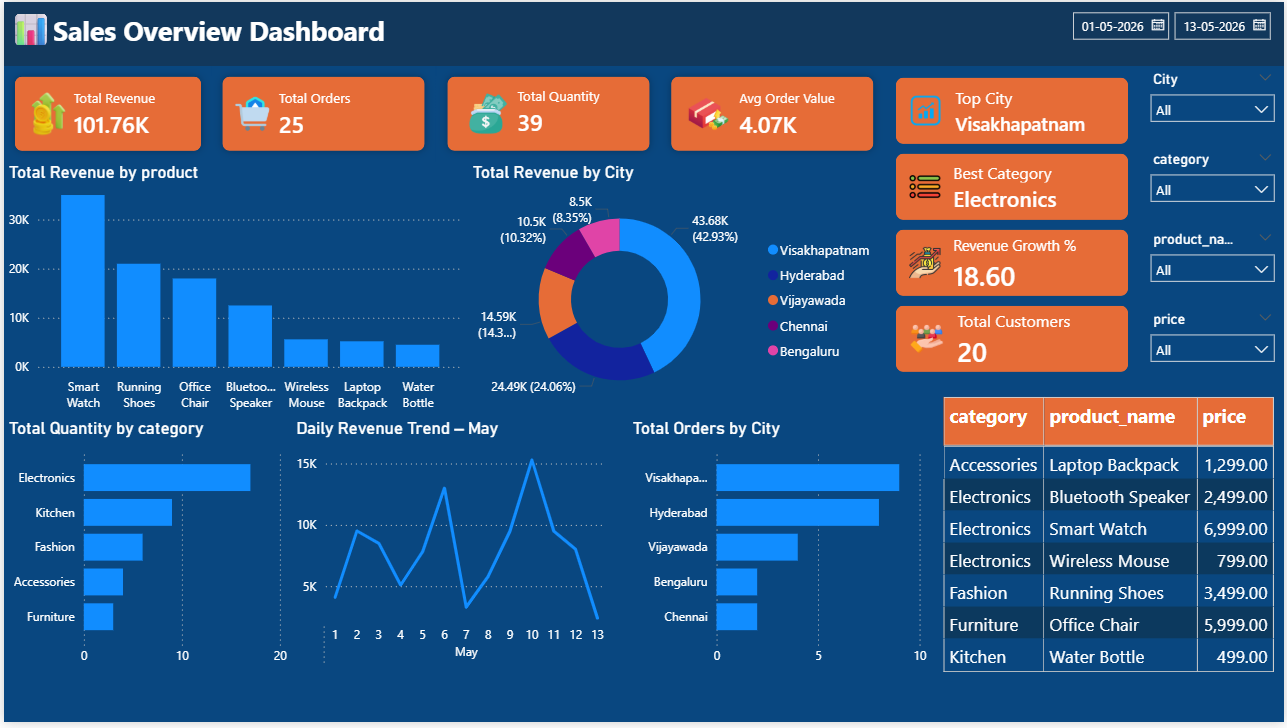

The page's visual inventory and layout, read from the dashboard file:
{"tool":"powerbi","page":{"name":"Page 1","canvas":[1280,720],"ordinal":0},"visuals":[{"type":"clusteredColumnChart","title":"Total Revenue by product","fields":{"Y":["public customers.Total Revenue"],"Category":["public products.product_name"]},"box":[0,160,464,256],"z":0},{"type":"donutChart","fields":{"Y":["public customers.Total Revenue"],"Category":["public customers.Updated City"]},"box":[464,160,416,256],"z":1000},{"type":"lineChart","title":"Daily Revenue Trend – May","fields":{"Y":["public customers.Total Revenue"],"Category":["public orders.order_date.Variation.Date Hierarchy.Month","public orders.order_date.Variation.Date Hierarchy.Day"]},"box":[288,416,320,256],"z":2000},{"type":"clusteredBarChart","fields":{"Y":["public customers.Total Quantity"],"Category":["public products.category"]},"box":[0,416,288,256],"z":3000},{"type":"cardVisual","fields":{"Data":["public customers.Total Revenue"]},"box":[0,64,208,96],"z":4000},{"type":"cardVisual","fields":{"Data":["public customers.Total Orders"]},"box":[208,64,224,96],"z":5000},{"type":"cardVisual","fields":{"Data":["public customers.Total Quantity"]},"box":[432,64,224,96],"z":6000},{"type":"cardVisual","fields":{"Data":["public customers.Avg Order Value"]},"box":[656,64,224,96],"z":7000},{"type":"textbox","box":[0,0,1280,64],"z":8000},{"type":"slicer","fields":{"Values":["public orders.order_date"]},"box":[1056,0,224,48],"z":9000},{"type":"clusteredBarChart","fields":{"Y":["public customers.Total Orders"],"Category":["public customers.Updated City"]},"box":[624,416,304,256],"z":10000},{"type":"slicer","fields":{"Values":["public customers.Updated City"]},"box":[1136,64,144,64],"z":11000},{"type":"slicer","fields":{"Values":["public products.category"]},"box":[1136,144,144,64],"z":12000},{"type":"slicer","fields":{"Values":["public products.product_name"]},"box":[1136,224,144,64],"z":13000},{"type":"slicer","fields":{"Values":["public products.price"]},"box":[1136,304,144,64],"z":14000},{"type":"cardVisual","fields":{"Data":["Last Refresh.Top City","Last Refresh.Best Category","Last Refresh.Revenue Growth %","Last Refresh.Total Customers"]},"box":[880,64,256,320],"z":15000},{"type":"tableEx","fields":{"Values":["public products.category","public products.product_name","public products.price"]},"box":[928,384,352,320],"z":16000}]}

Visuals, with their boxes in screenshot pixels (x1, y1, x2, y2), scaled from the page's 1280x720 canvas onto the 1287x728 screenshot:
"Total Revenue by product" clusteredColumnChart: pyautogui.locateOnScreen(0, 162, 467, 421)
donutChart - public customers.Total Revenue x public customers.Updated City: pyautogui.locateOnScreen(467, 162, 885, 421)
"Daily Revenue Trend – May" lineChart: pyautogui.locateOnScreen(290, 421, 611, 679)
clusteredBarChart - public customers.Total Quantity x public products.category: pyautogui.locateOnScreen(0, 421, 290, 679)
cardVisual - public customers.Total Revenue: pyautogui.locateOnScreen(0, 65, 209, 162)
cardVisual - public customers.Total Orders: pyautogui.locateOnScreen(209, 65, 434, 162)
cardVisual - public customers.Total Quantity: pyautogui.locateOnScreen(434, 65, 660, 162)
cardVisual - public customers.Avg Order Value: pyautogui.locateOnScreen(660, 65, 885, 162)
textbox: pyautogui.locateOnScreen(0, 0, 1286, 65)
slicer - public orders.order_date: pyautogui.locateOnScreen(1062, 0, 1286, 49)
clusteredBarChart - public customers.Total Orders x public customers.Updated City: pyautogui.locateOnScreen(627, 421, 933, 679)
slicer - public customers.Updated City: pyautogui.locateOnScreen(1142, 65, 1286, 129)
slicer - public products.category: pyautogui.locateOnScreen(1142, 146, 1286, 210)
slicer - public products.product_name: pyautogui.locateOnScreen(1142, 226, 1286, 291)
slicer - public products.price: pyautogui.locateOnScreen(1142, 307, 1286, 372)
cardVisual - Last Refresh.Top City x Last Refresh.Best Category: pyautogui.locateOnScreen(885, 65, 1142, 388)
tableEx - public products.category x public products.product_name: pyautogui.locateOnScreen(933, 388, 1286, 712)
